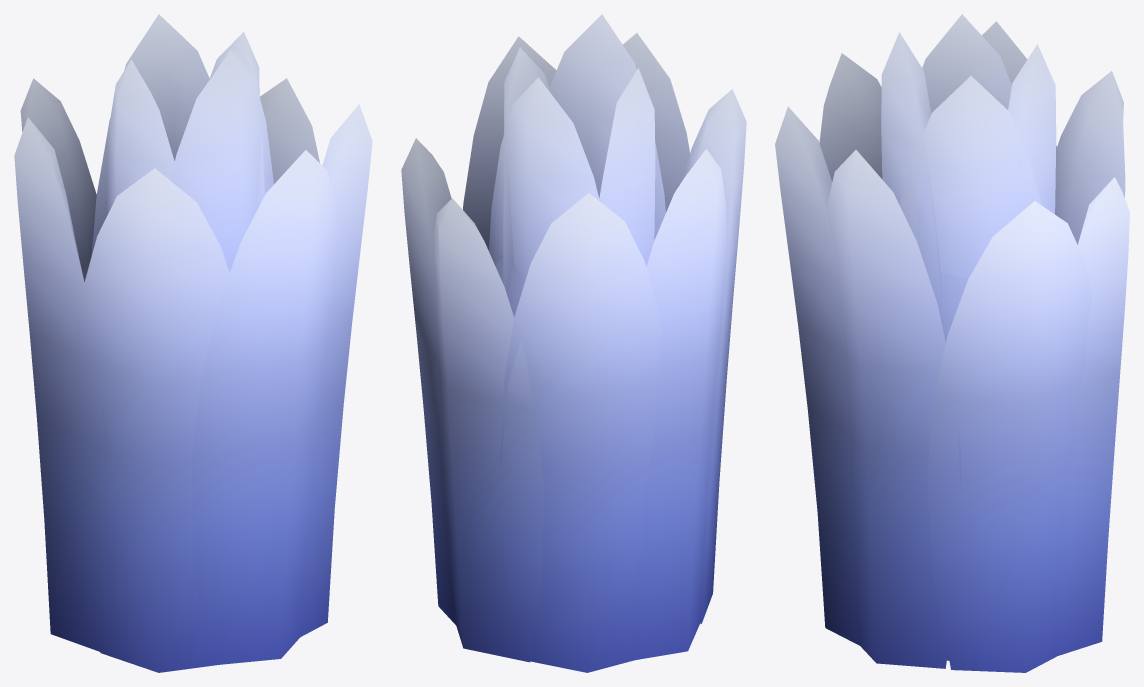
The model's file is StarGrass.fbx.
The picture shows the model from 3 angles, left to right: view 1: azimuth 30°, elevation 25°; view 2: azimuth 150°, elevation 25°; view 3: azimuth 270°, elevation 25°; orthographic projection. The views are drawn at different scales.
Parts seen in each view (by area): view 1: StarGrass; view 2: StarGrass; view 3: StarGrass.
Part boxes in pixels (left/top/right/bottom): StarGrass: left=14, top=14, right=372, bottom=672; StarGrass: left=401, top=14, right=746, bottom=672; StarGrass: left=775, top=14, right=1129, bottom=672.
Bounding box in the file's own units: 0.8017 × 1.48 × 0.8093.
1 material, 1 textured.
